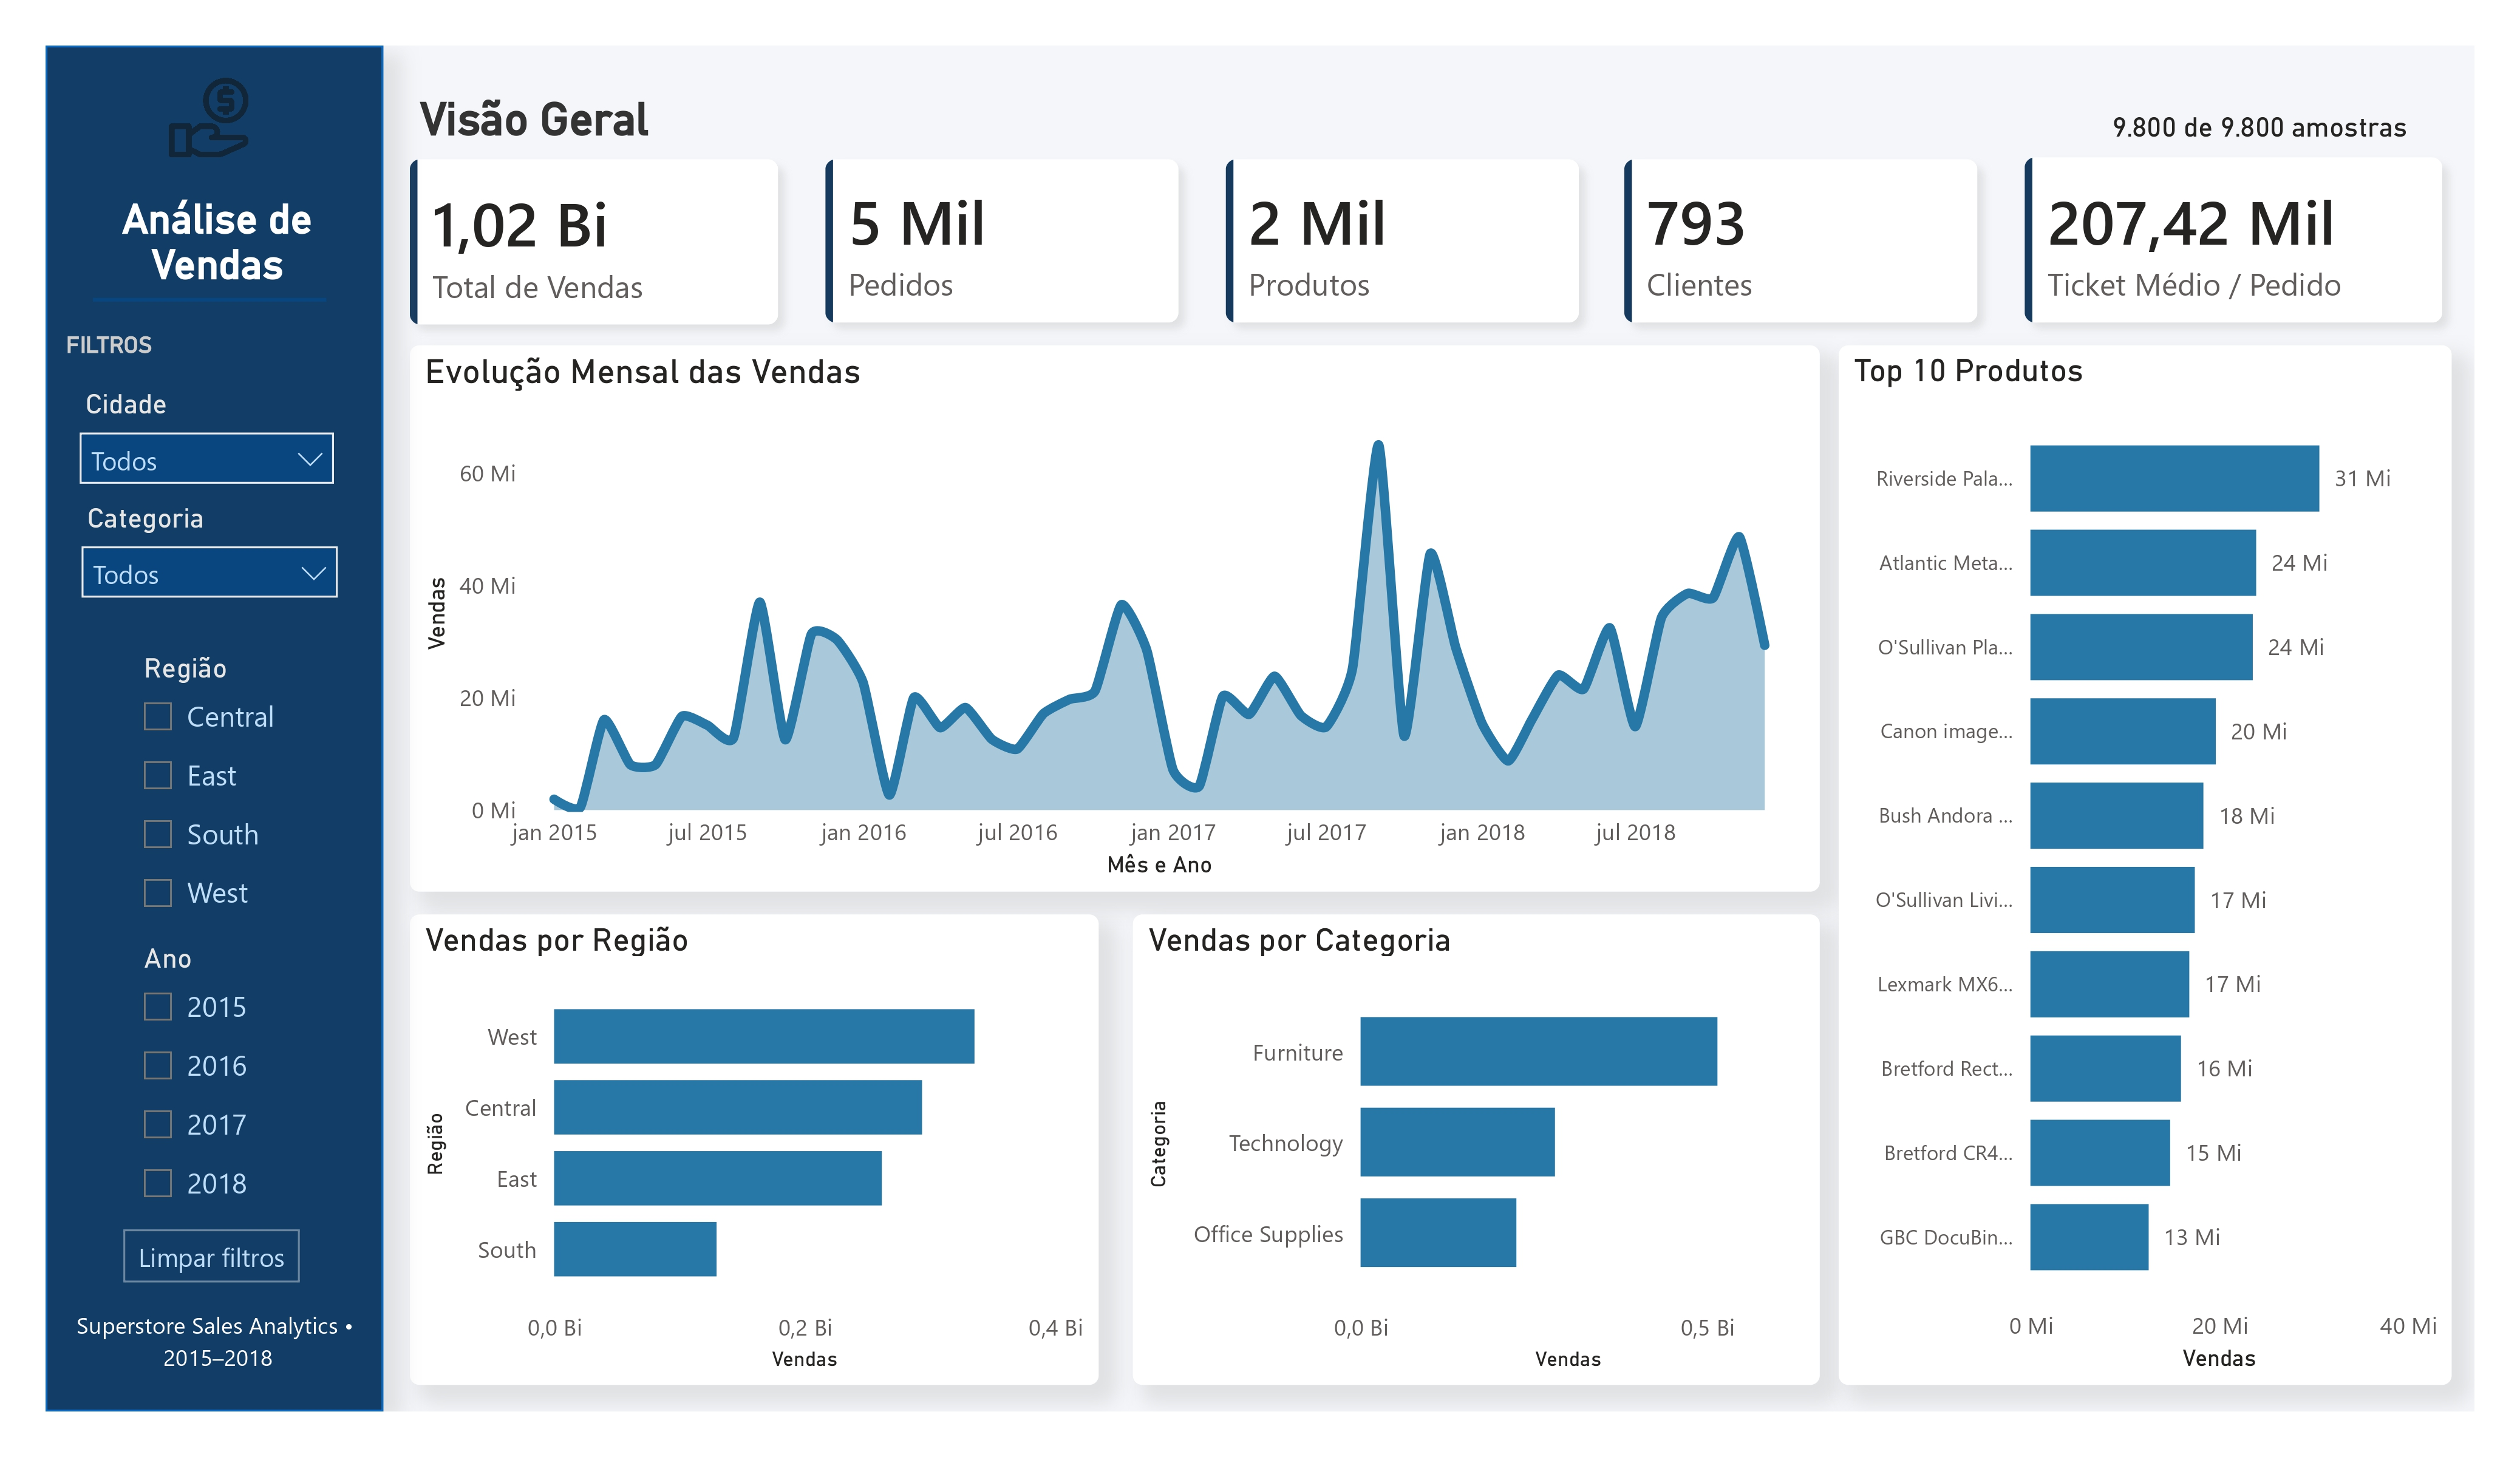

What the dashboard file says about the page in this screenshot:
{"tool":"powerbi","page":{"name":"Visão Geral","canvas":[1280,720],"ordinal":0},"visuals":[{"type":"actionButton","box":[0,0,100,40],"z":0},{"type":"cardVisual","fields":{"Data":["Sum(superstore_sales.Vendas)"]},"box":[175,42.7,228.1,120.8],"z":1000},{"type":"cardVisual","fields":{"Data":["superstore_sales.Pedidos"]},"box":[393.9,42.7,220,120],"z":2000},{"type":"cardVisual","fields":{"Data":["superstore_sales.Clientes_Unico"]},"box":[815.3,42.7,220,120],"z":3000},{"type":"cardVisual","fields":{"Data":["superstore_sales.Produtos_Unico"]},"box":[604.6,42.7,220,120],"z":4000},{"type":"cardVisual","fields":{"Data":["superstore_sales.Ticket_Médio"]},"box":[1025.8,42.7,254.2,119.8],"z":5000},{"type":"stackedAreaChart","title":"Evolução Mensal das Vendas","fields":{"Category":["superstore_sales.MesdoAno_Realizado.Variation.Hierarquia de datas.Ano","superstore_sales.MesdoAno_Realizado.Variation.Hierarquia de datas.Mês"],"Y":["Sum(superstore_sales.Vendas)"]},"box":[191.7,158.3,743.8,287.5],"z":6000},{"type":"barChart","fields":{"Y":["Sum(superstore_sales.Vendas)"],"Category":["superstore_sales.Região"]},"box":[191.7,458.3,363.5,247.9],"z":7000},{"type":"clusteredBarChart","fields":{"Y":["Sum(superstore_sales.Vendas)"],"Category":["superstore_sales.Categoria"]},"box":[572.9,458.3,362.5,247.9],"z":8000},{"type":"clusteredBarChart","title":"Top 10 Produtos","fields":{"Y":["Sum(superstore_sales.Vendas)"],"Category":["superstore_sales.Nome_Produto"]},"box":[944.8,158.3,322.9,547.9],"z":9000},{"type":"shape","title":"Visão Geral","box":[0,0,178.2,719.5],"z":10000},{"type":"slicer","fields":{"Values":["superstore_sales.Região"]},"box":[39.5,314.6,100.4,168],"z":11000},{"type":"slicer","fields":{"Values":["superstore_sales.Categoria"]},"box":[9,235.7,154.5,78.9],"z":12000},{"type":"textbox","box":[1,660.4,180.2,54.2],"z":13000},{"type":"textbox","box":[6.2,74,168.8,68.8],"z":14000},{"type":"shape","box":[25,103.1,122.9,61.5],"z":15000},{"type":"image","box":[49,12.5,74,50],"z":16000},{"type":"textbox","box":[5.6,143.2,148.9,29.3],"z":17000},{"type":"slicer","fields":{"Values":["superstore_sales.Cidade"]},"box":[7.9,175.9,154.5,78.9],"z":18000},{"type":"slicer","fields":{"Values":["superstore_sales.Ano_Realizado"]},"box":[39.5,468,100.4,168],"z":19000},{"type":"textbox","box":[191.7,19.8,208.3,380.2],"z":19001},{"type":"actionButton","box":[41,624,92.7,28.1],"z":19002},{"type":"cardVisual","fields":{"Data":["superstore_sales.Indicador de Amostras"]},"box":[1060.4,0,219.8,108.3],"z":19003}]}

Visuals, with their boxes on the page's 1280x720 design canvas (x1, y1, x2, y2). These are canvas units, not pixel positions in the 2520x1457 screenshot, which may show the page scaled, cropped or inside an application window:
actionButton: region(0, 0, 100, 40)
cardVisual - Sum(superstore_sales.Vendas): region(175, 43, 403, 164)
cardVisual - superstore_sales.Pedidos: region(394, 43, 614, 163)
cardVisual - superstore_sales.Clientes_Unico: region(815, 43, 1035, 163)
cardVisual - superstore_sales.Produtos_Unico: region(605, 43, 825, 163)
cardVisual - superstore_sales.Ticket_Médio: region(1026, 43, 1280, 162)
"Evolução Mensal das Vendas" stackedAreaChart: region(192, 158, 936, 446)
barChart - Sum(superstore_sales.Vendas) x superstore_sales.Região: region(192, 458, 555, 706)
clusteredBarChart - Sum(superstore_sales.Vendas) x superstore_sales.Categoria: region(573, 458, 935, 706)
"Top 10 Produtos" clusteredBarChart: region(945, 158, 1268, 706)
"Visão Geral" shape: region(0, 0, 178, 720)
slicer - superstore_sales.Região: region(40, 315, 140, 483)
slicer - superstore_sales.Categoria: region(9, 236, 164, 315)
textbox: region(1, 660, 181, 715)
textbox: region(6, 74, 175, 143)
shape: region(25, 103, 148, 165)
image: region(49, 12, 123, 62)
textbox: region(6, 143, 154, 172)
slicer - superstore_sales.Cidade: region(8, 176, 162, 255)
slicer - superstore_sales.Ano_Realizado: region(40, 468, 140, 636)
textbox: region(192, 20, 400, 400)
actionButton: region(41, 624, 134, 652)
cardVisual - superstore_sales.Indicador de Amostras: region(1060, 0, 1280, 108)
